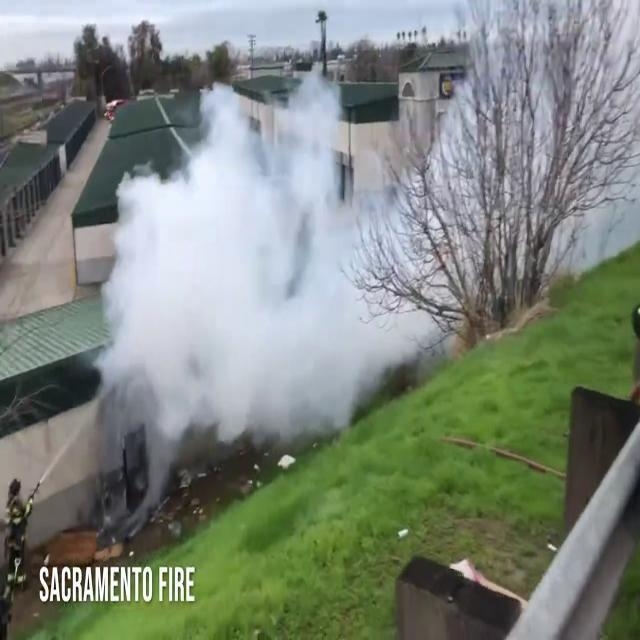Smoke: (91, 63, 393, 477), (395, 0, 634, 364)
